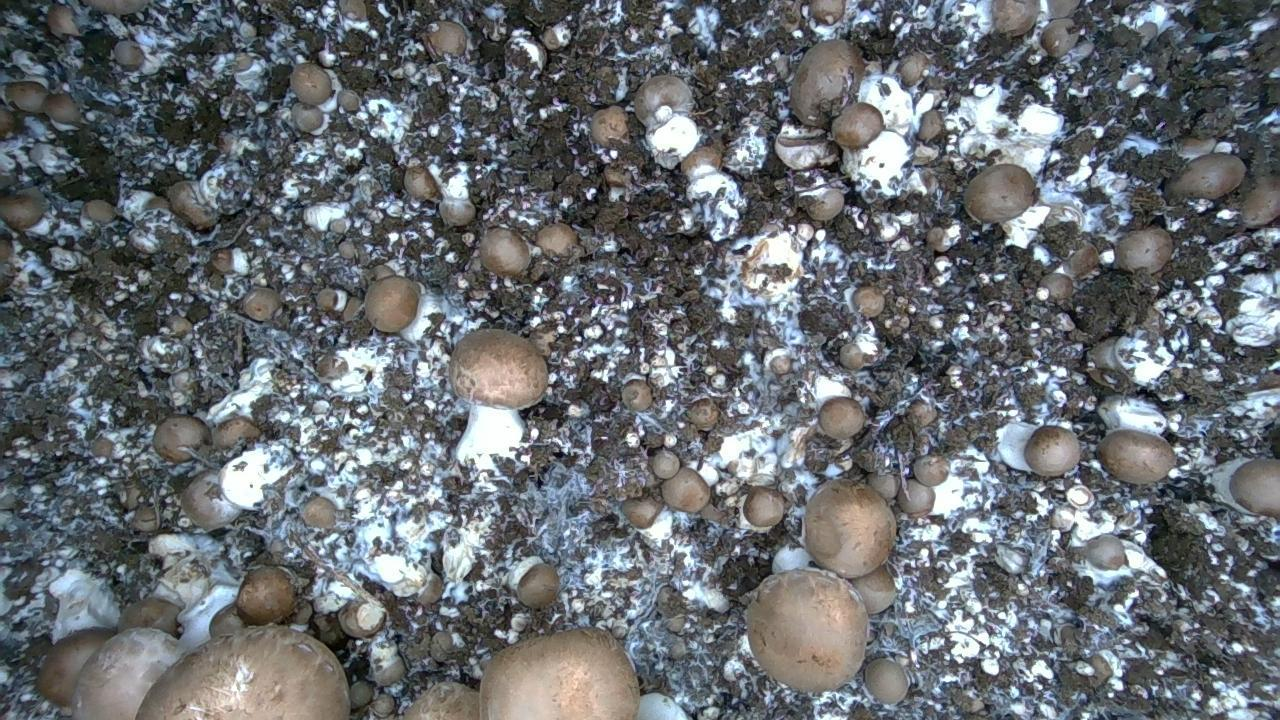BB: (136, 624, 349, 719), (749, 568, 869, 690), (479, 628, 639, 719), (450, 329, 547, 468), (71, 628, 183, 719), (803, 480, 896, 577), (790, 39, 864, 127), (36, 628, 115, 706), (634, 75, 698, 168), (963, 164, 1035, 222), (1098, 429, 1175, 483), (1166, 153, 1245, 199), (181, 470, 240, 530), (236, 567, 294, 624), (365, 276, 419, 332), (1230, 459, 1279, 517), (403, 682, 479, 719), (1024, 425, 1079, 476), (153, 414, 209, 463), (1115, 228, 1172, 272), (479, 228, 530, 276), (117, 597, 180, 635), (832, 102, 883, 148), (851, 566, 896, 614), (662, 467, 709, 512), (864, 657, 908, 703), (516, 563, 559, 608), (0, 187, 45, 230), (1242, 175, 1279, 226), (819, 397, 865, 438), (338, 599, 385, 637), (992, 0, 1039, 36), (290, 63, 331, 104), (743, 486, 784, 527), (590, 106, 627, 147), (425, 21, 468, 56), (213, 416, 260, 448), (1041, 18, 1079, 56), (242, 287, 282, 321), (536, 223, 577, 255), (5, 81, 47, 112), (622, 496, 662, 528), (209, 603, 244, 638), (43, 93, 81, 124), (912, 455, 949, 486), (404, 166, 438, 199), (439, 196, 475, 226), (46, 4, 79, 36), (852, 285, 884, 317), (1040, 272, 1074, 302), (621, 379, 652, 411), (290, 103, 323, 132), (688, 399, 719, 429), (114, 40, 144, 69), (809, 0, 845, 24), (130, 504, 159, 533), (649, 450, 679, 478), (83, 199, 115, 224), (1047, 0, 1079, 19), (337, 89, 360, 113)
